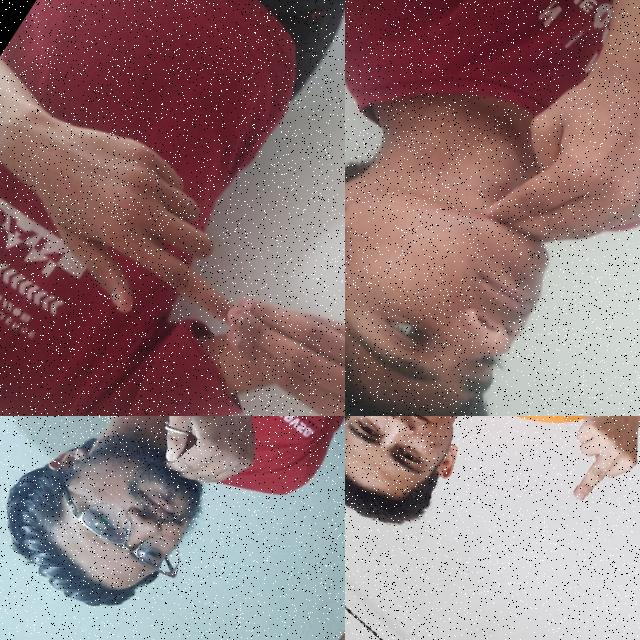Chin Flick: (345, 0, 640, 416), (0, 416, 300, 640)
Five Fathers: (0, 68, 345, 416)
Middle Finger: (530, 416, 640, 529)
